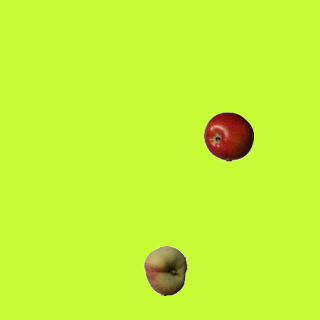Apple Braeburn: (203, 111, 253, 161)
Peach Flat: (140, 245, 190, 295)
